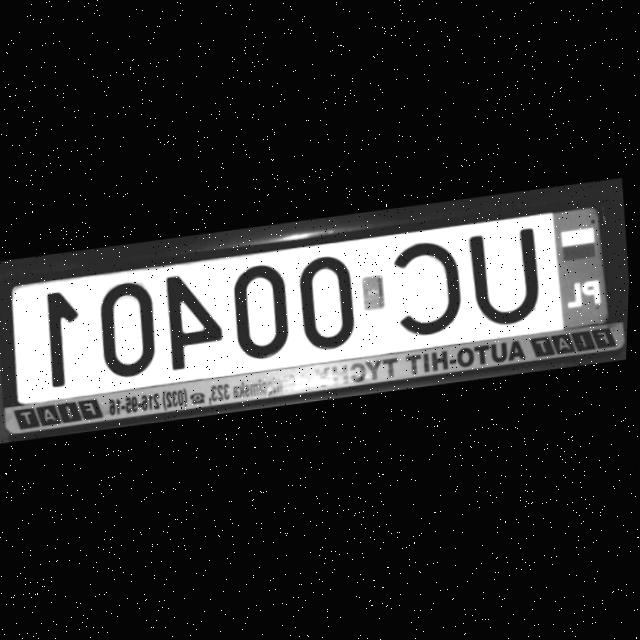license-plates: (9, 206, 609, 406)
